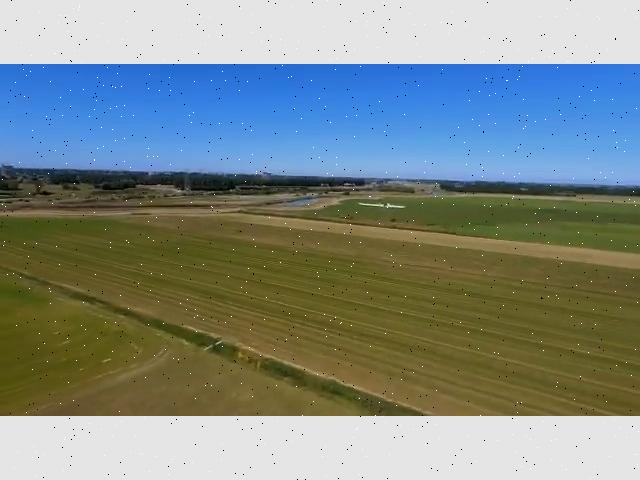Anti-Drone: (352, 191, 412, 219)
